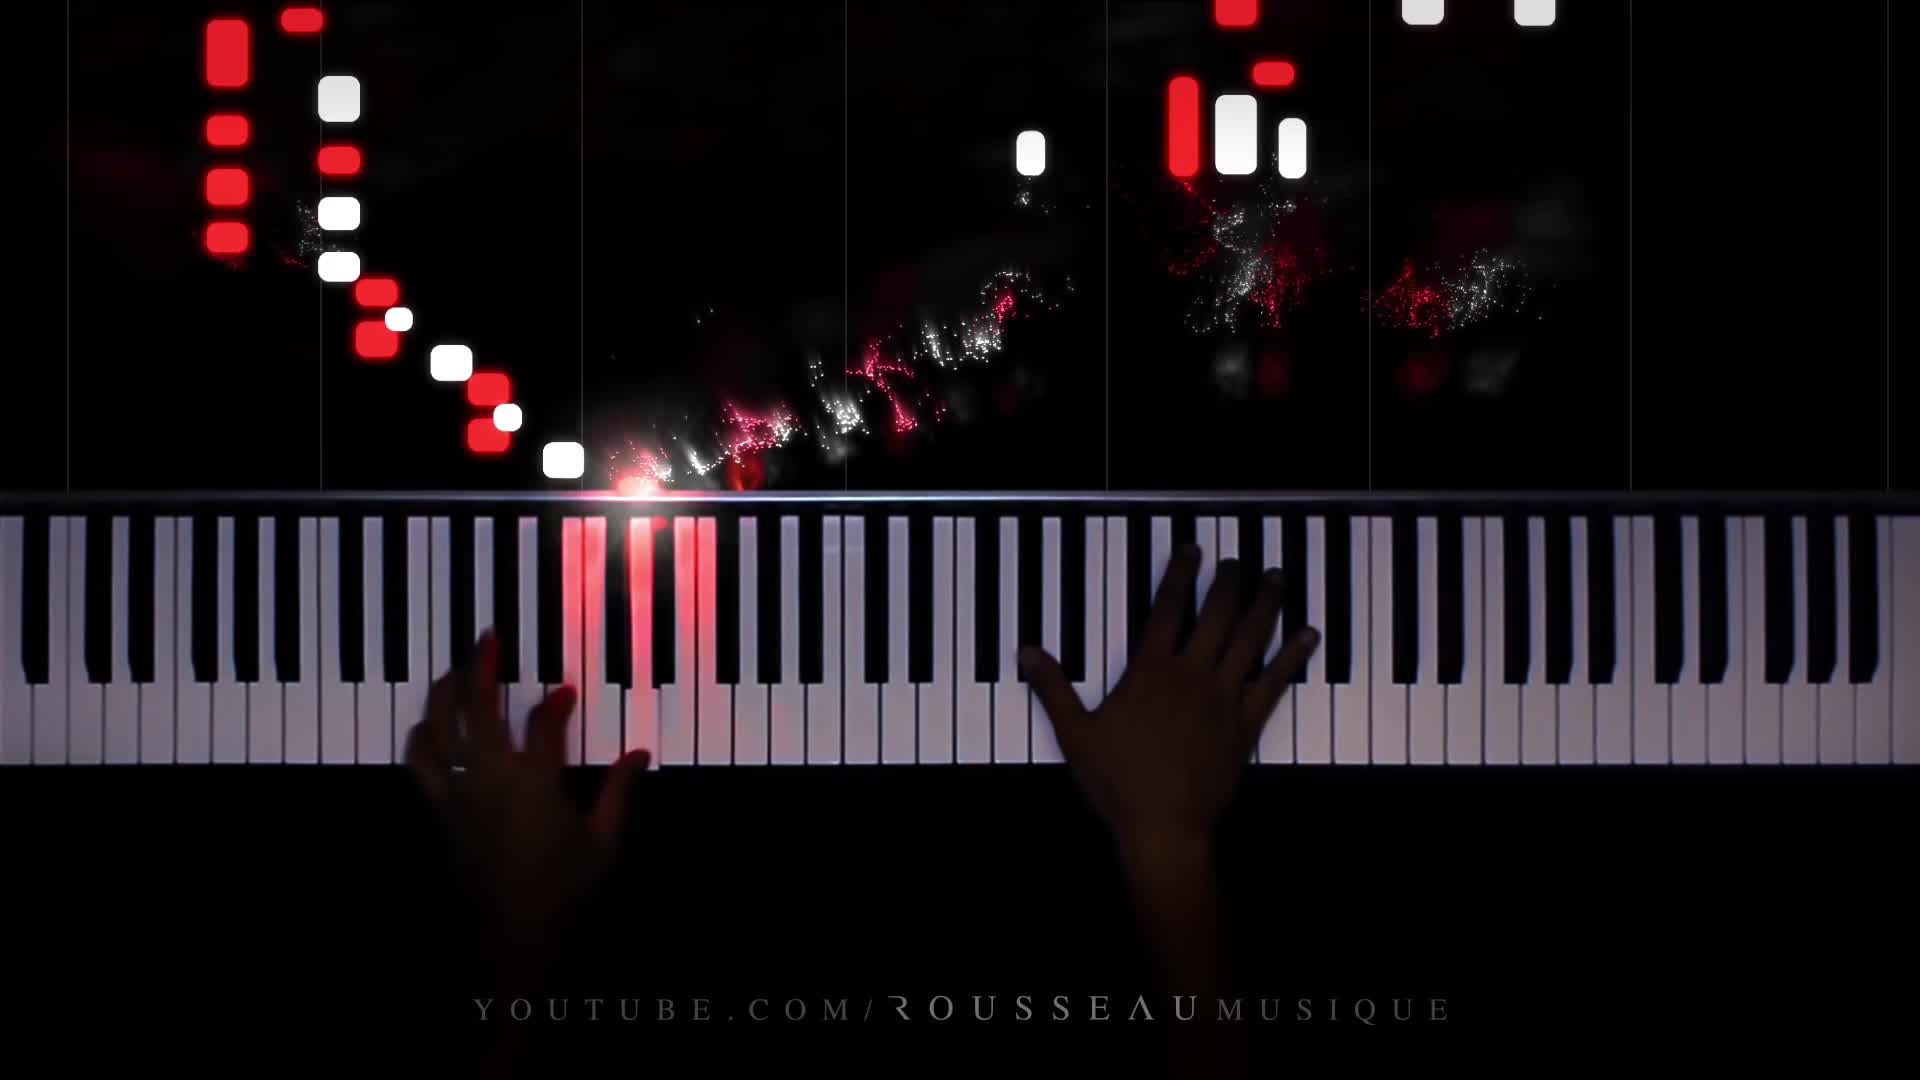left: (398, 626, 655, 895)
right: (1017, 539, 1325, 829)
